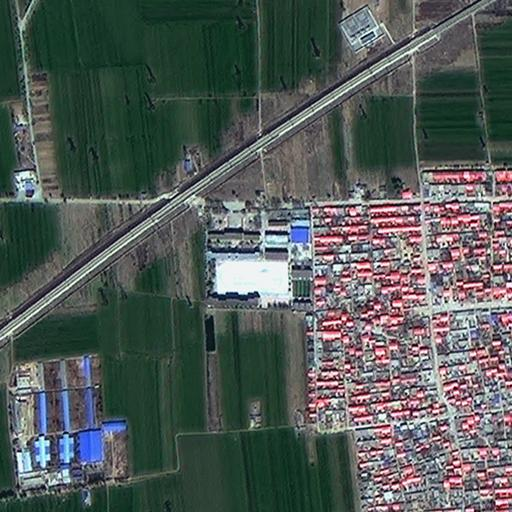school: (200, 202, 313, 308)
